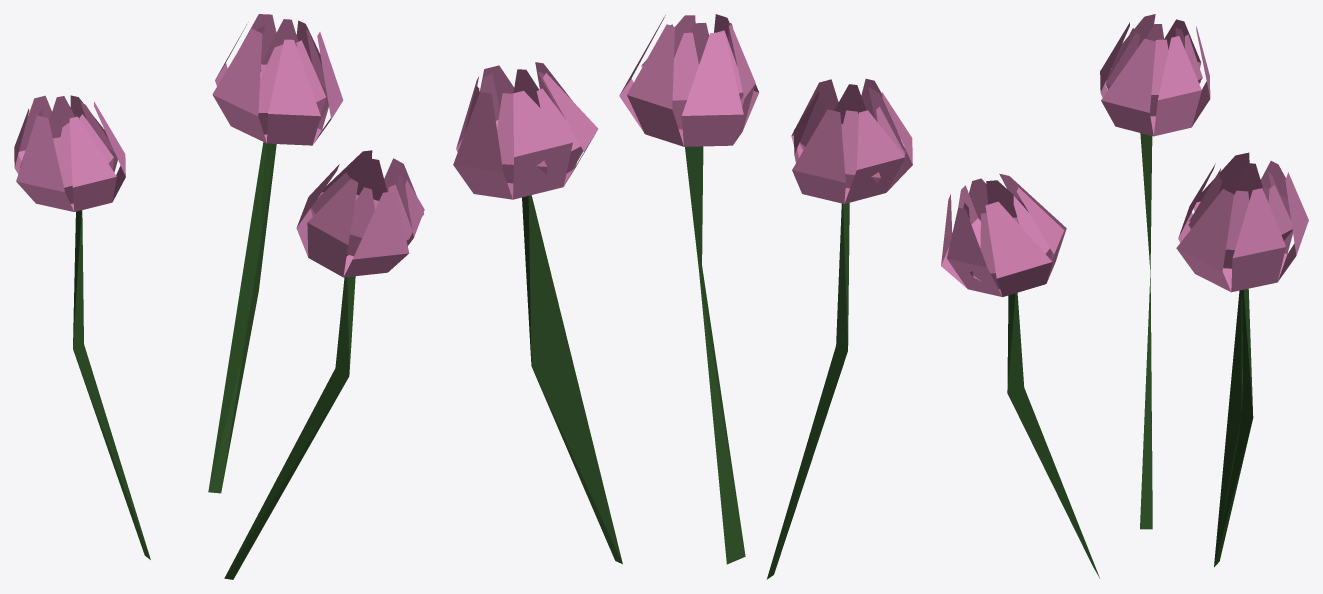
File: enchantedforest_flower_5.fbx
The picture shows the model from 3 angles, left to right: view 1: azimuth 30°, elevation 25°; view 2: azimuth 150°, elevation 25°; view 3: azimuth 270°, elevation 25°; orthographic projection. The views are drawn at different scales.
Visible parts, largest first — view 1: Cylinder.011; view 2: Cylinder.011; view 3: Cylinder.011.
Part boxes in pixels (box(x1,y1,x2,y2)): Cylinder.011: box(14, 14, 424, 579); Cylinder.011: box(453, 14, 912, 579); Cylinder.011: box(941, 14, 1308, 578).
Size of the model in its own units: 0.4592 by 0.5865 by 0.4029.
